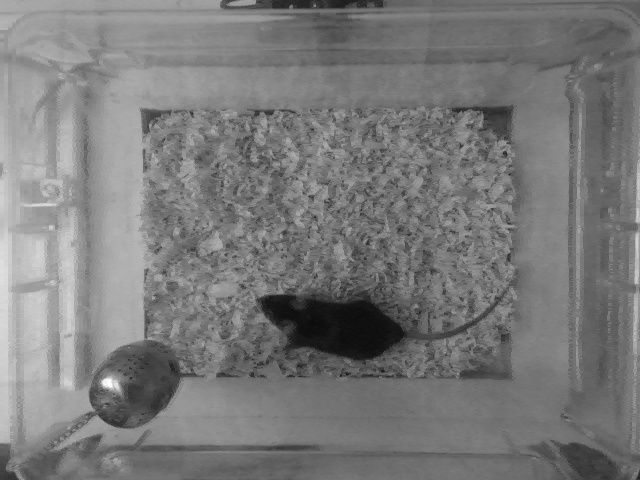mice: (255, 270, 517, 360)
